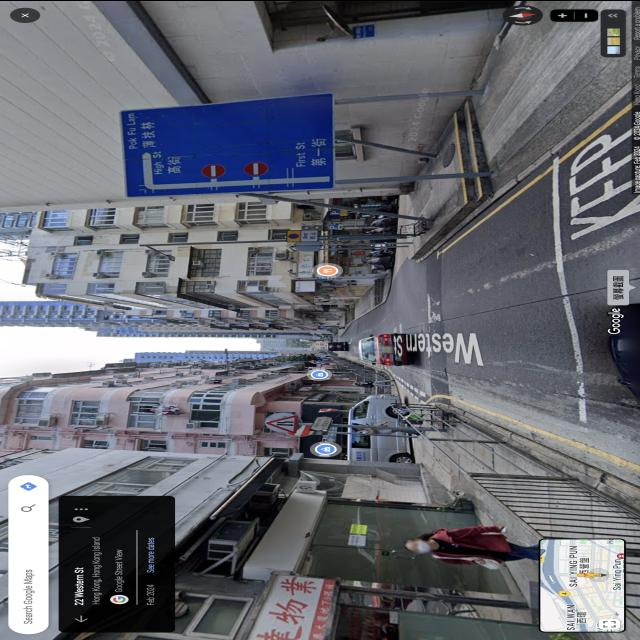Direction-Sign: (117, 94, 333, 195)
Order-Sign: (287, 229, 318, 241), (318, 408, 338, 410), (316, 360, 322, 362), (320, 325, 326, 327)
Street-Direction-Sign: (309, 414, 333, 430)
Warning-Sign: (266, 414, 298, 432)
